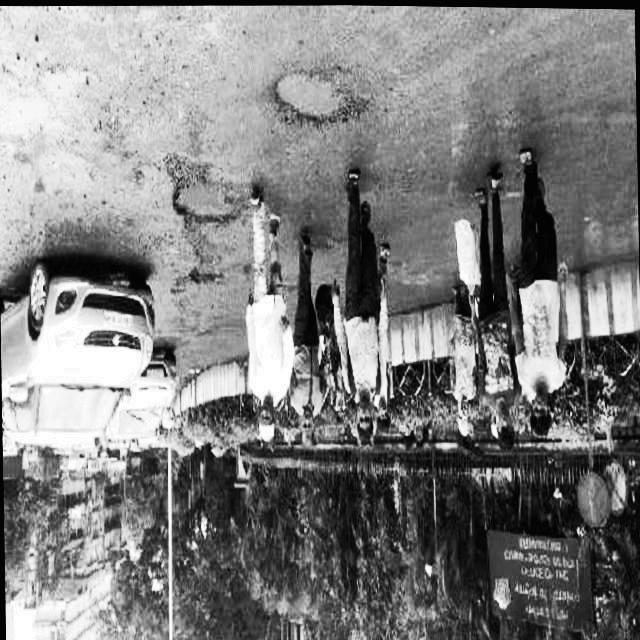Pothole: (156, 156, 247, 226), (266, 63, 362, 128)
